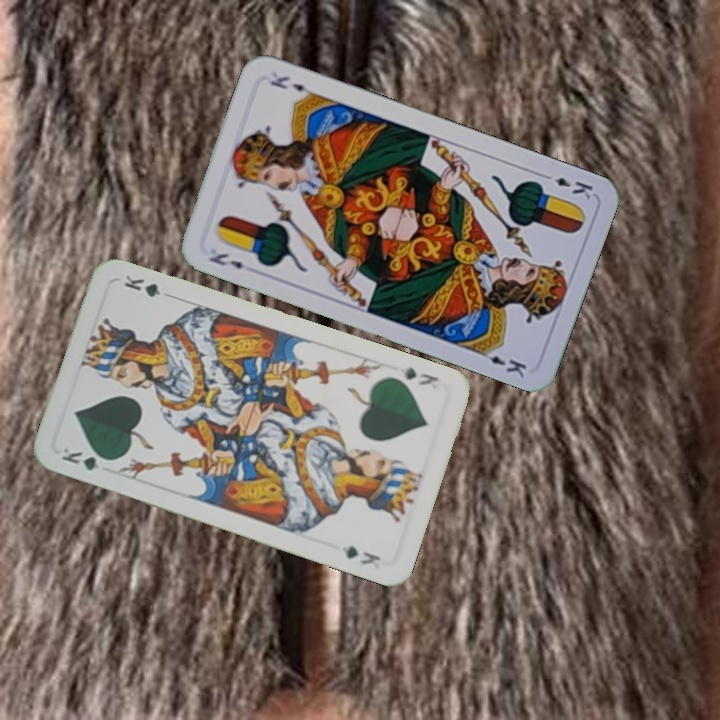EK: (538, 169, 596, 202), (205, 249, 246, 272)
GK: (57, 443, 115, 474), (399, 363, 441, 389)
